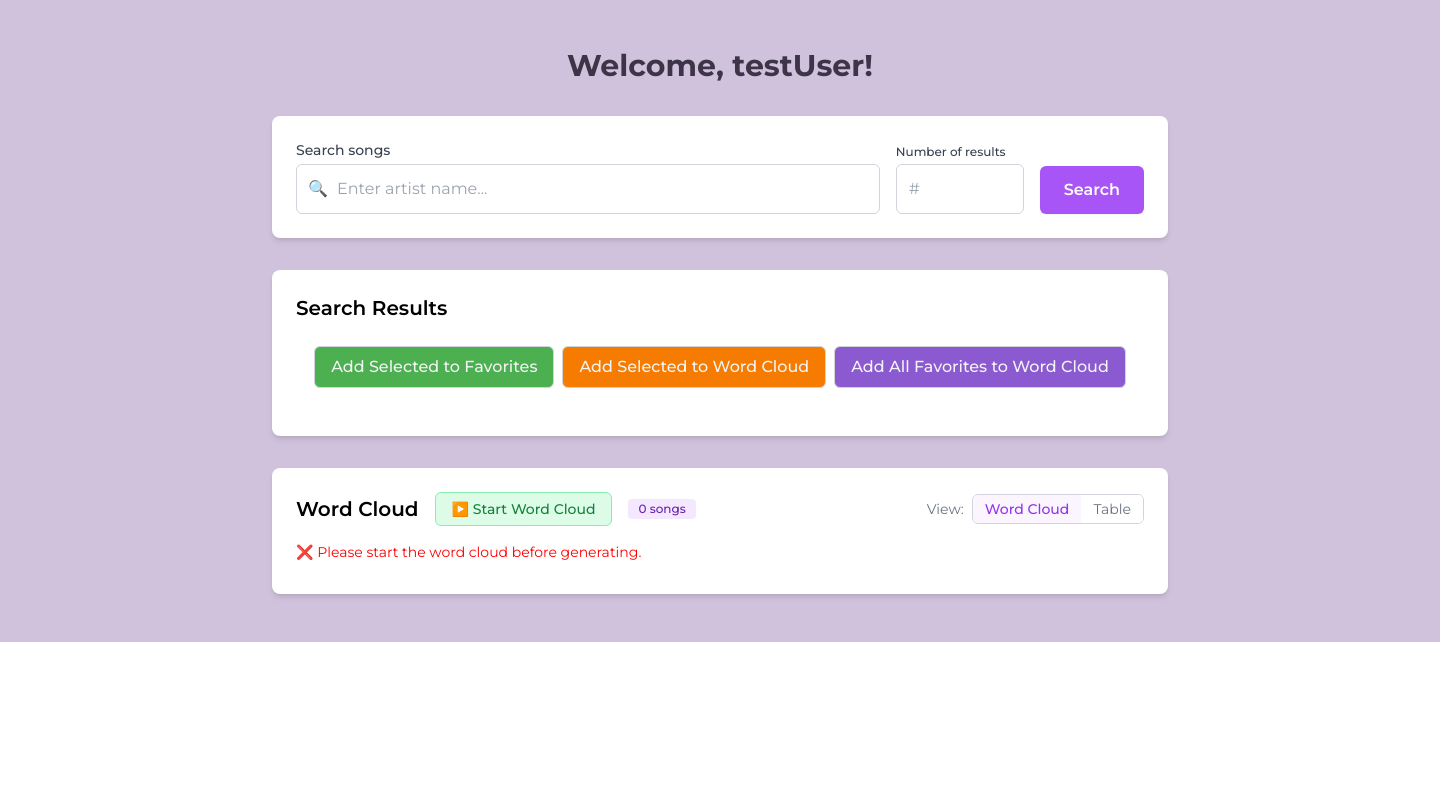
Test: Dashboard › fetches and displays songs after selecting an artist
The width and height of the screenshot is (1440, 798).
Note: fill query & limit
Type "Artist Name" into the search field with placeholder "Enter artist name...".
click(588, 189); type("Artist Name")  # box [296,164,880,214]
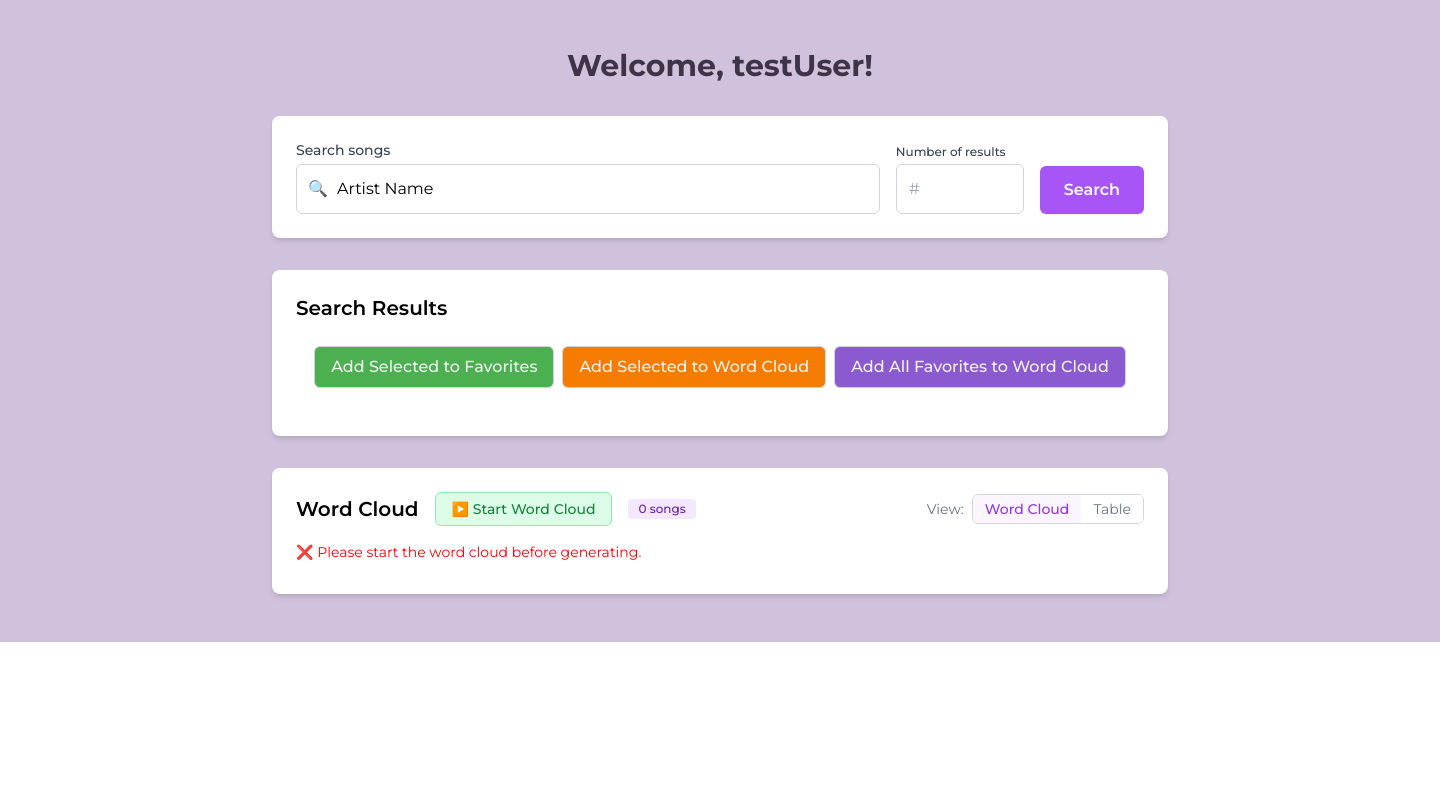
Type "1" into the number field with placeholder "#".
click(960, 189); type("1")  # box [896,164,1024,214]
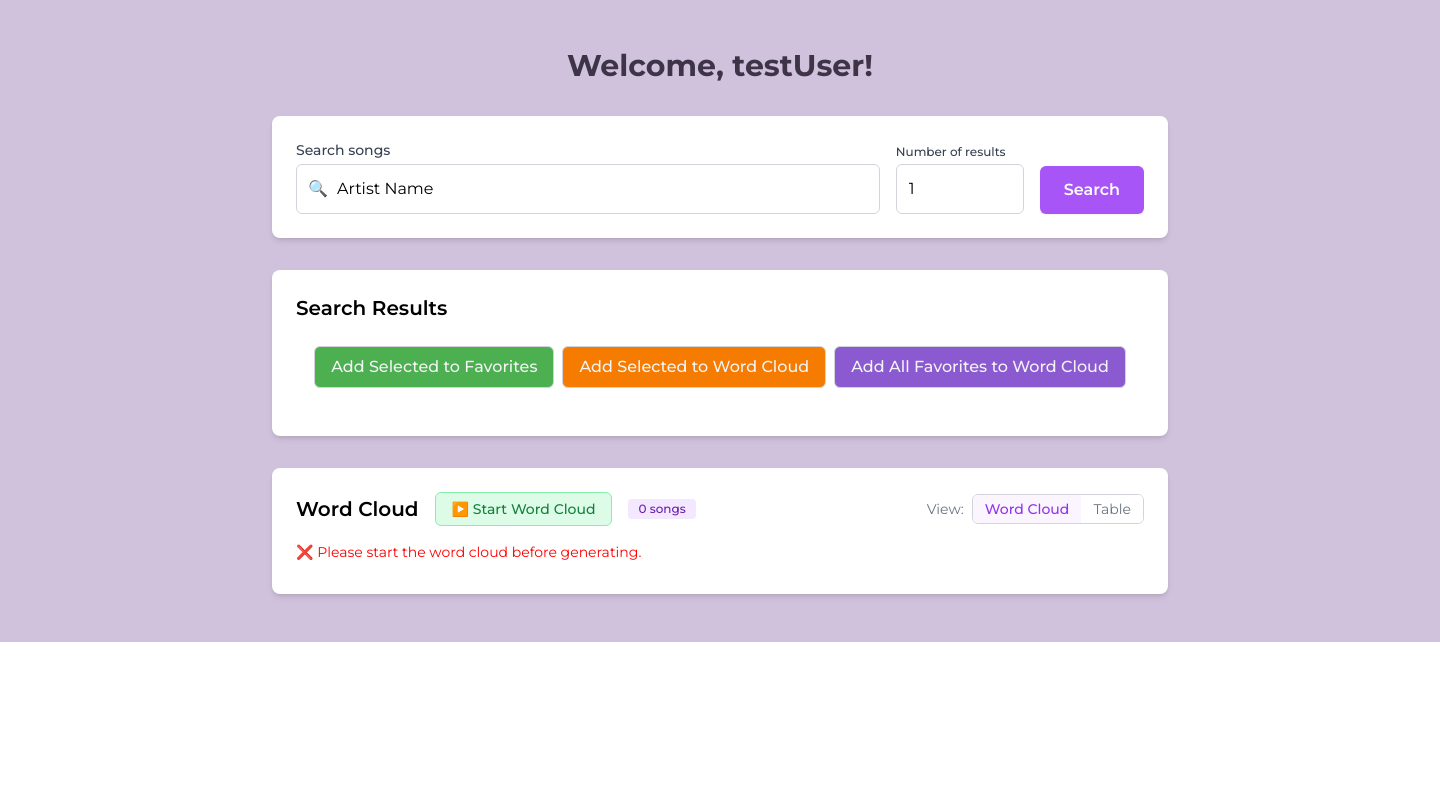
Click the button "Search".
click(1092, 190)  # box [1040,166,1144,214]
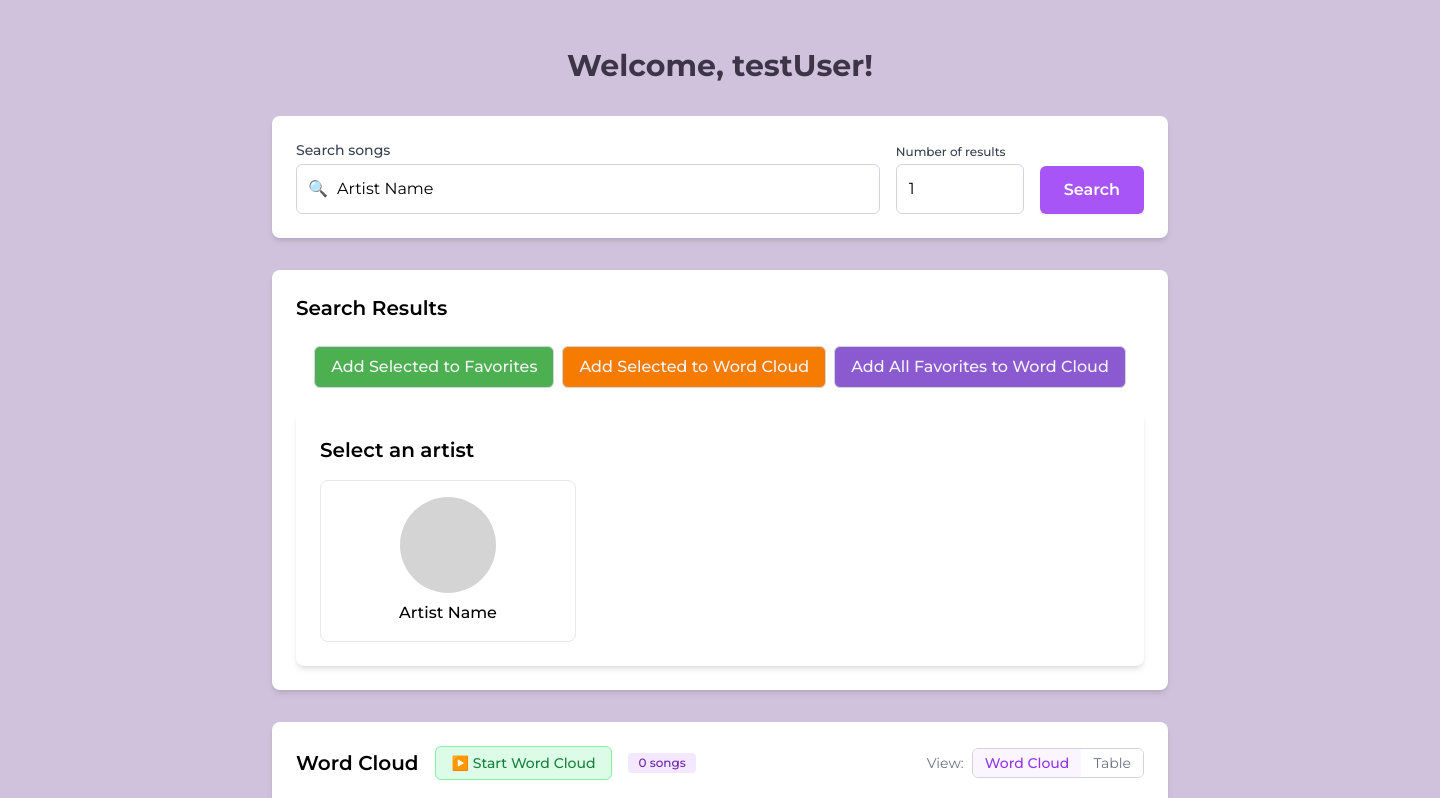
Expected: the button with aria-label "select artist Artist Name" is shown
Click the button with aria-label "select artist Artist Name".
click(448, 561)  # box [320,480,576,642]
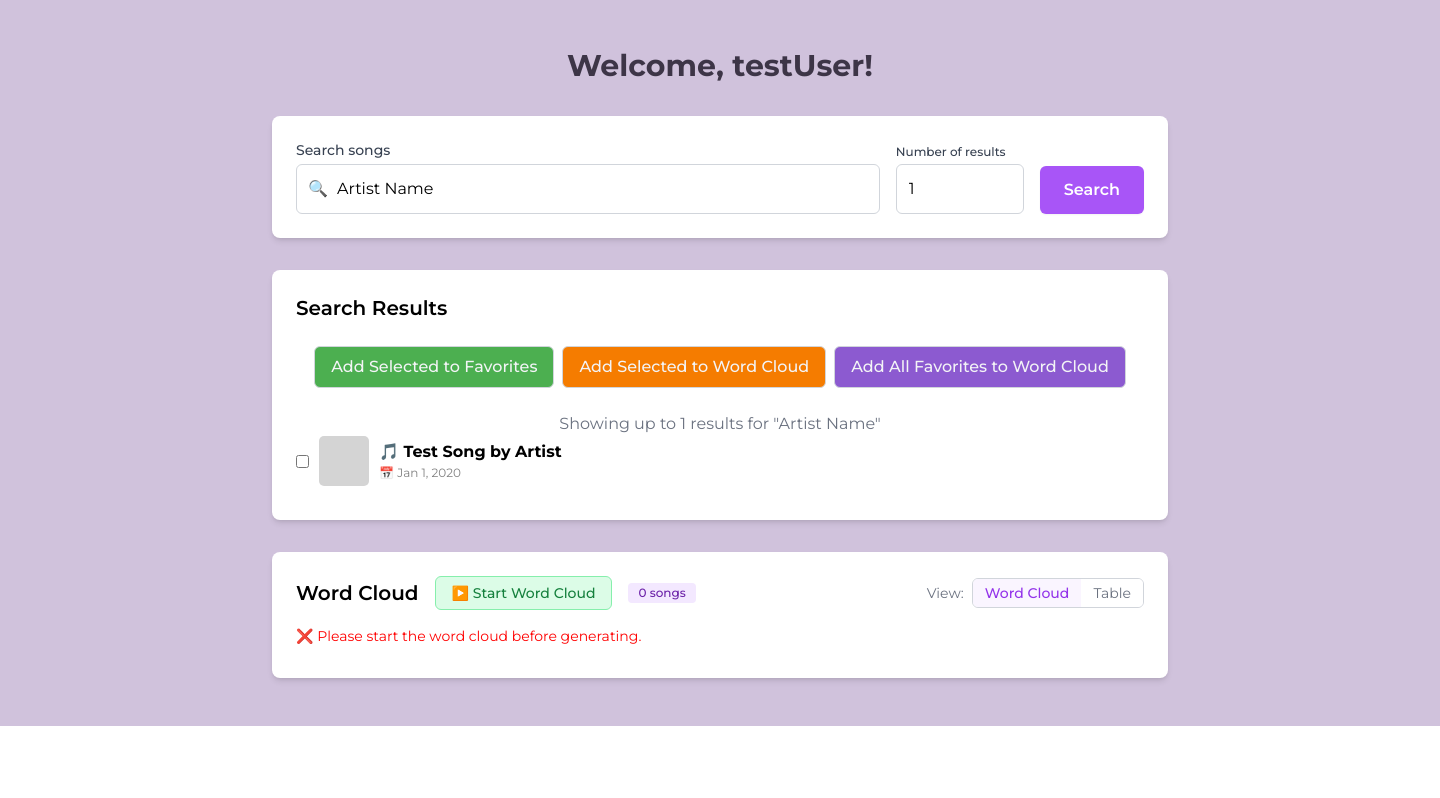
Expected: the text "🎵 Test Song by Artist" is shown, [379,440,562,464]
Expected: the text "📅 Jan 1, 2020" is shown, [379,465,461,480]
